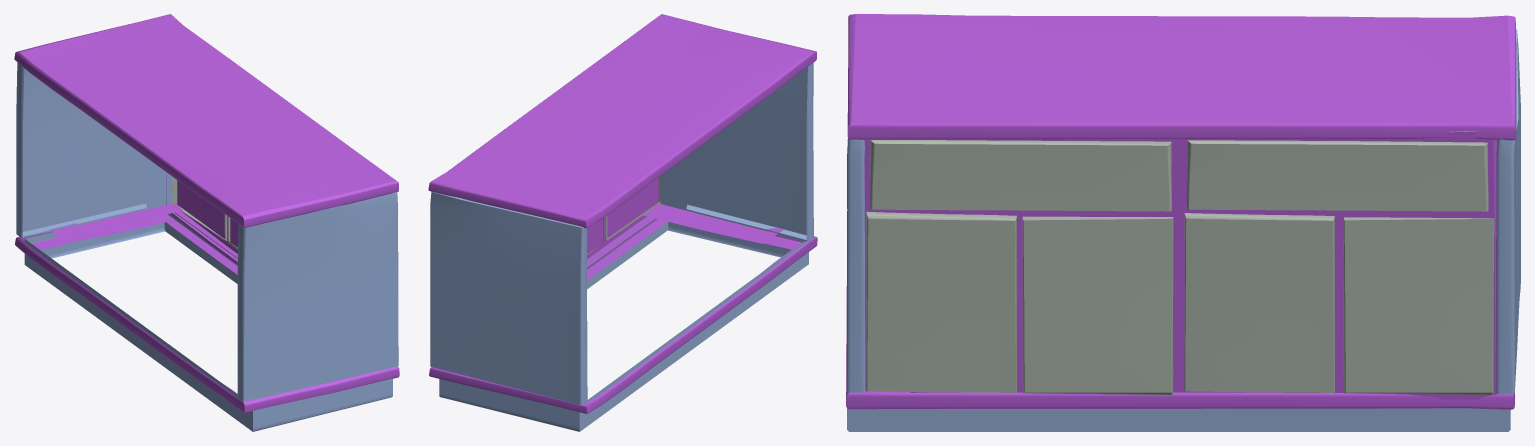
Rendered from Friday_KitchenCounter 1.fbx.
The picture shows the model from 3 angles, left to right: view 1: azimuth 30°, elevation 25°; view 2: azimuth 150°, elevation 25°; view 3: azimuth 270°, elevation 25°; orthographic projection. The views are drawn at different scales.
Visible parts, largest first — view 1: KitchenCabinet2, KitchenCabinet, KitchenCabinet1; view 2: KitchenCabinet2, KitchenCabinet; view 3: KitchenCabinet1, KitchenCabinet, KitchenCabinet2.
Part boxes in pixels (x1=…): KitchenCabinet2: x1=16, y1=62, x2=398, y2=431; KitchenCabinet: x1=14, y1=14, x2=399, y2=413; KitchenCabinet1: x1=172, y1=177, x2=237, y2=250; KitchenCabinet2: x1=430, y1=63, x2=813, y2=431; KitchenCabinet: x1=428, y1=14, x2=817, y2=413; KitchenCabinet1: x1=866, y1=140, x2=1494, y2=394; KitchenCabinet: x1=846, y1=14, x2=1516, y2=409; KitchenCabinet2: x1=847, y1=29, x2=1520, y2=431.
Bounding box in the file's own units: 31.06 × 40.56 × 78.79.
